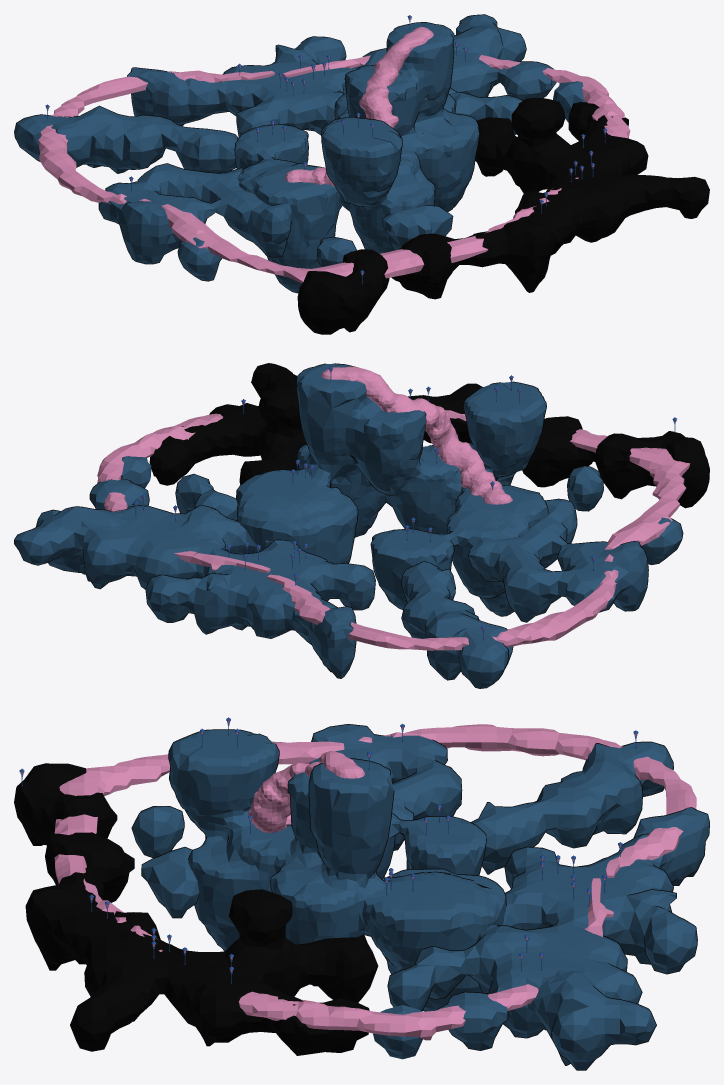
File: islandDesign1.fbx
The picture shows the model from 3 angles, top to bottom: view 1: azimuth 30°, elevation 25°; view 2: azimuth 150°, elevation 25°; view 3: azimuth 270°, elevation 25°; orthographic projection. The views are drawn at different scales.
Parts seen in each view (by area): view 1: outerIslands.001, islandsOutline, innerIslands.001, clouds, cloudsUp, lamps; view 2: outerIslands.001, innerIslands.001, islandsOutline, clouds, cloudsUp, lamps; view 3: outerIslands.001, innerIslands.001, islandsOutline, clouds, cloudsUp, lamps.
Part boxes in pixels (left/top/right/bottom): outerIslands.001: left=14, top=15, right=585, bottom=280; islandsOutline: left=14, top=14, right=709, bottom=334; innerIslands.001: left=235, top=22, right=479, bottom=292; clouds: left=38, top=55, right=630, bottom=283; cloudsUp: left=285, top=27, right=433, bottom=186; lamps: left=45, top=15, right=607, bottom=284; outerIslands.001: left=14, top=456, right=682, bottom=688; innerIslands.001: left=236, top=364, right=547, bottom=615; islandsOutline: left=14, top=363, right=709, bottom=688; clouds: left=97, top=410, right=690, bottom=650; cloudsUp: left=321, top=366, right=512, bottom=504; lamps: left=133, top=366, right=676, bottom=640; outerIslands.001: left=132, top=724, right=709, bottom=1069; innerIslands.001: left=169, top=730, right=505, bottom=1011; islandsOutline: left=14, top=724, right=709, bottom=1070; clouds: left=54, top=724, right=696, bottom=1040; cloudsUp: left=248, top=751, right=364, bottom=832; lamps: left=19, top=717, right=638, bottom=984.
Size of the model in its own units: 522 by 222 by 506.
